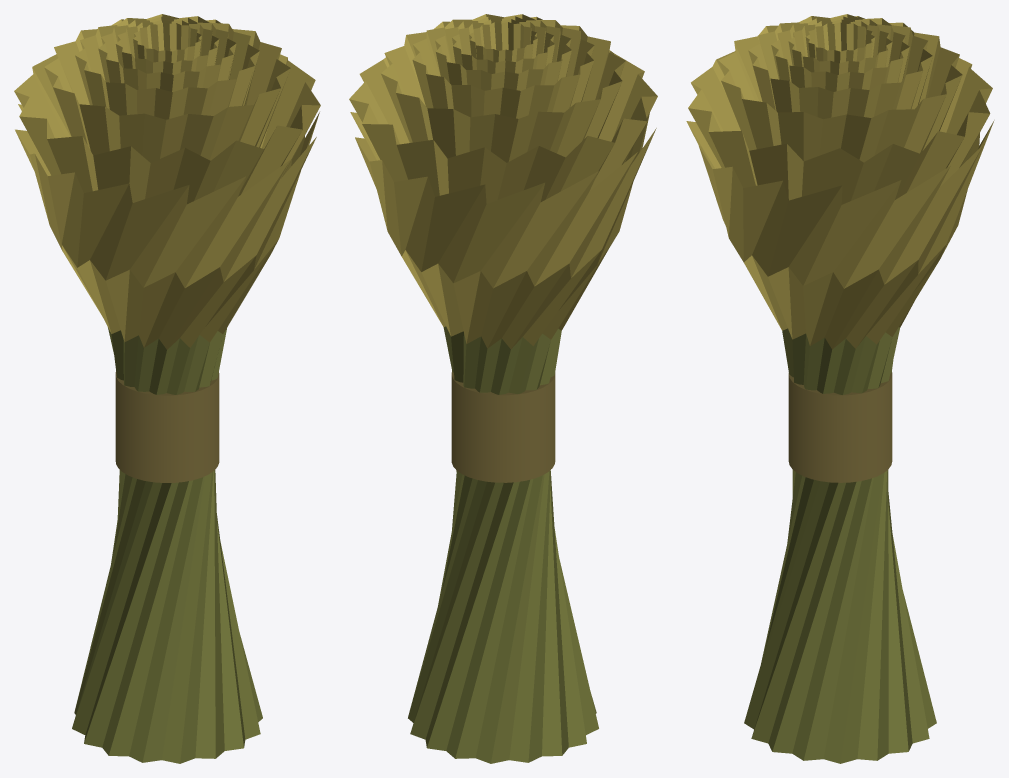
Rendered from wheat.fbx.
3 renders of one model, left to right at view 1: azimuth 30°, elevation 25°; view 2: azimuth 150°, elevation 25°; view 3: azimuth 270°, elevation 25°, orthographic.
Parts seen in each view (by area): view 1: wheat; view 2: wheat; view 3: wheat.
Part boxes in pixels (x1,y1,x2,y2): wheat: [14, 14, 320, 763]; wheat: [349, 14, 657, 763]; wheat: [686, 14, 994, 763].
Bounding box in the file's own units: 320 × 785 × 320.
